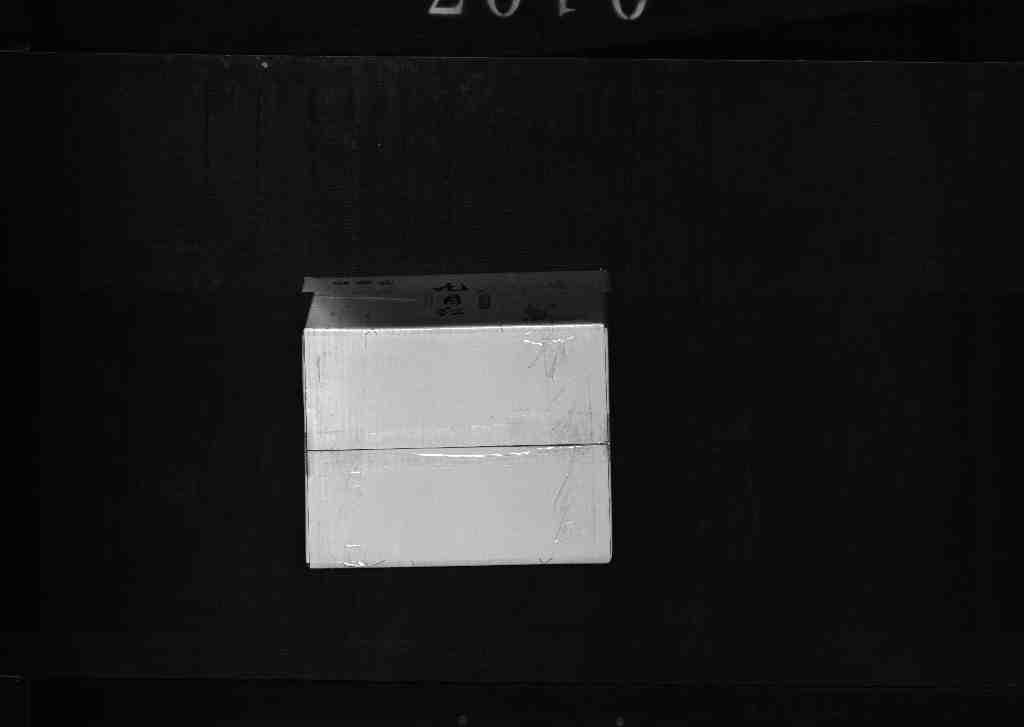box: (289, 261, 617, 578)
